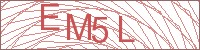5: (91, 15, 108, 44)
E: (39, 1, 62, 33)
L: (116, 14, 137, 44)
M: (65, 13, 92, 40)
